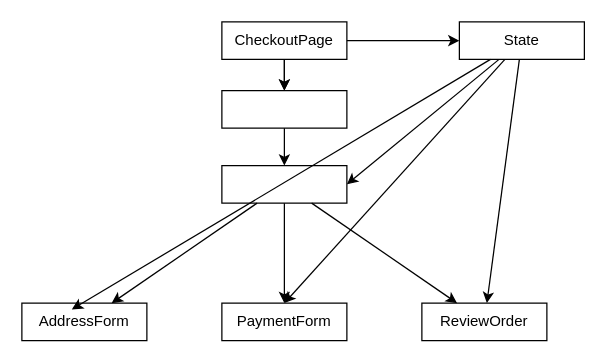
Some shapes in this 606 by 363 pixel diagram are drawn without their labels. Each missing label, with the centre of its shape:
"Form" belongs at (x=284, y=183).
"Formik" belongs at (x=284, y=108).
